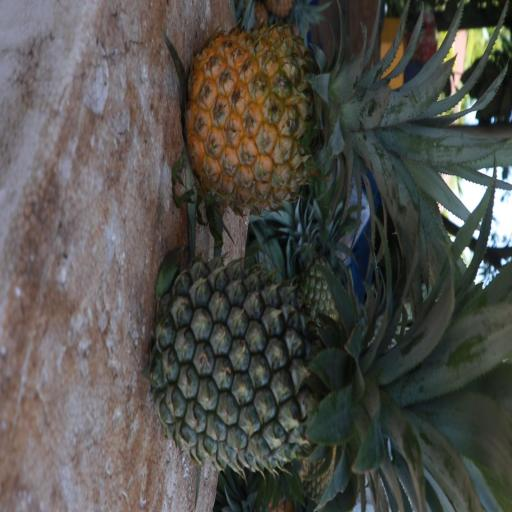Pineapple - v8 v1: (192, 35, 473, 204)
